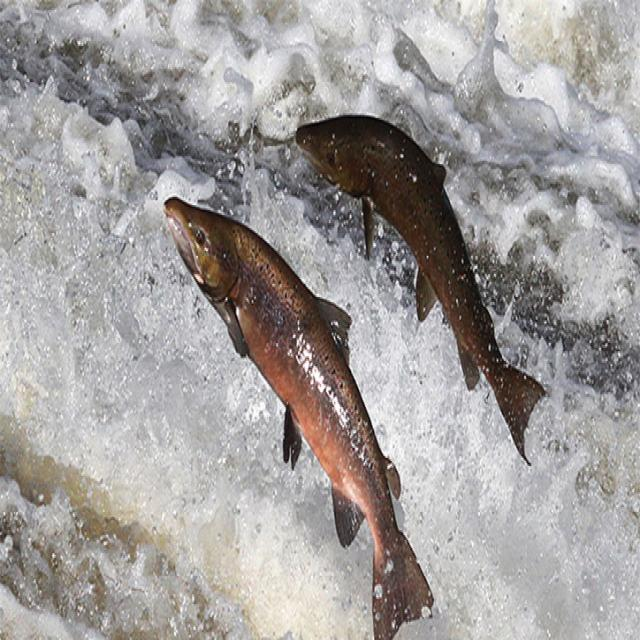salmon: (155, 180, 439, 640), (284, 94, 546, 471)
